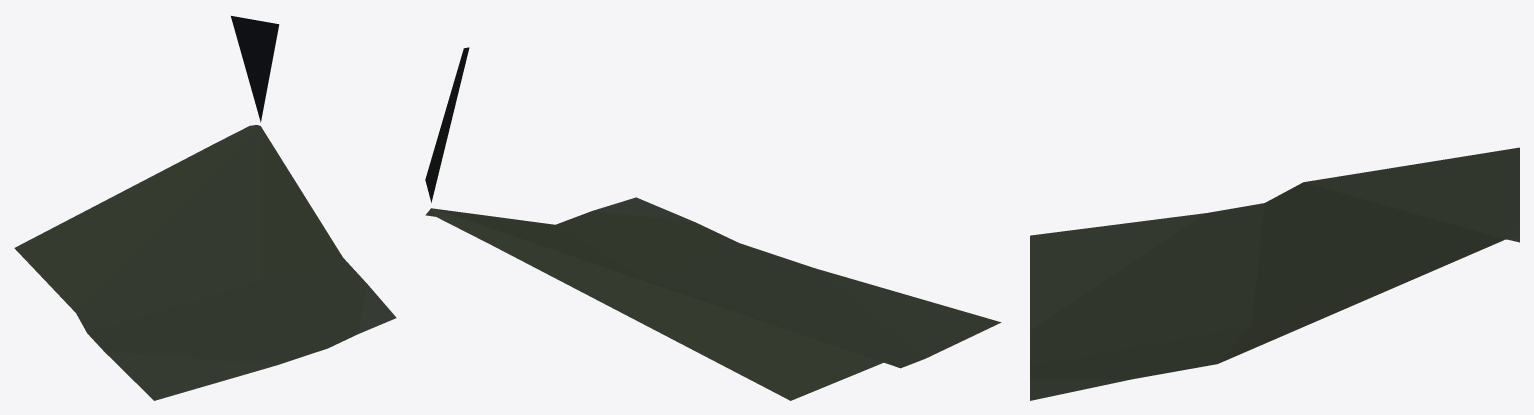
3 views of the same model, side by side, from view 1: azimuth 30°, elevation 25°; view 2: azimuth 150°, elevation 25°; view 3: azimuth 270°, elevation 25° (orthographic). The views are drawn at different scales.
Bounding box in the file's own units: 1.97 × 1.79 × 1.97.
1 material, 1 textured.
